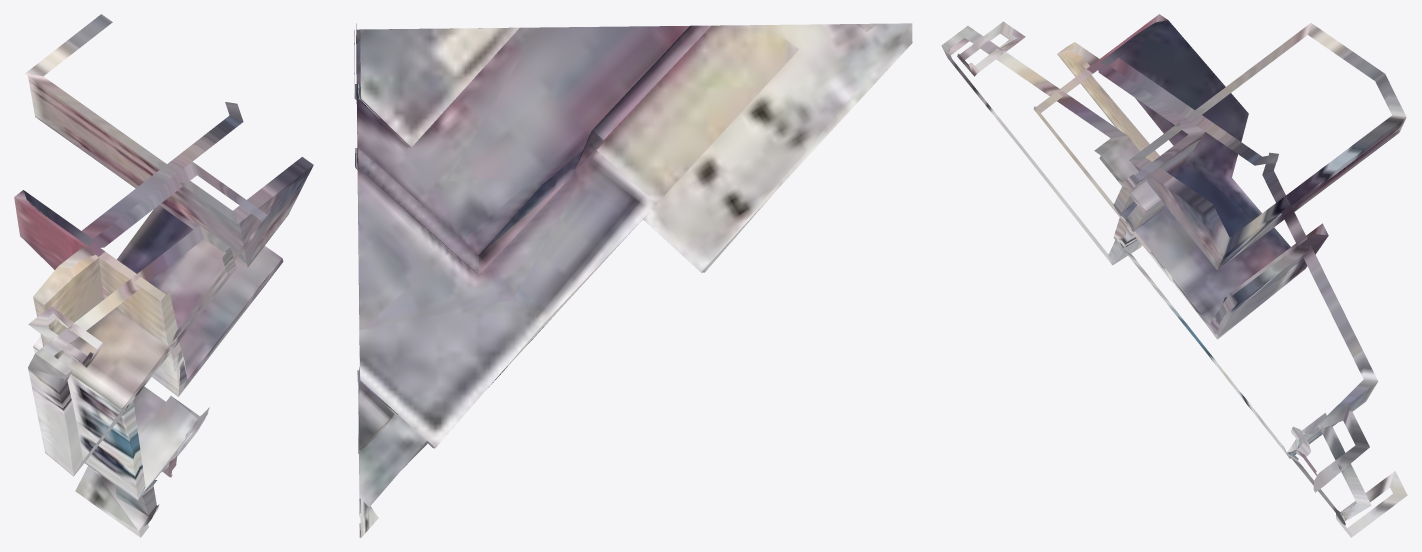
3 renders of one model, left to right at view 1: azimuth 30°, elevation 25°; view 2: azimuth 150°, elevation 25°; view 3: azimuth 270°, elevation 25°, orthographic. The views are drawn at different scales.
Size of the model in its own units: 15.28 by 18.1 by 16.8.
Materials: 1 (1 with a texture image).
